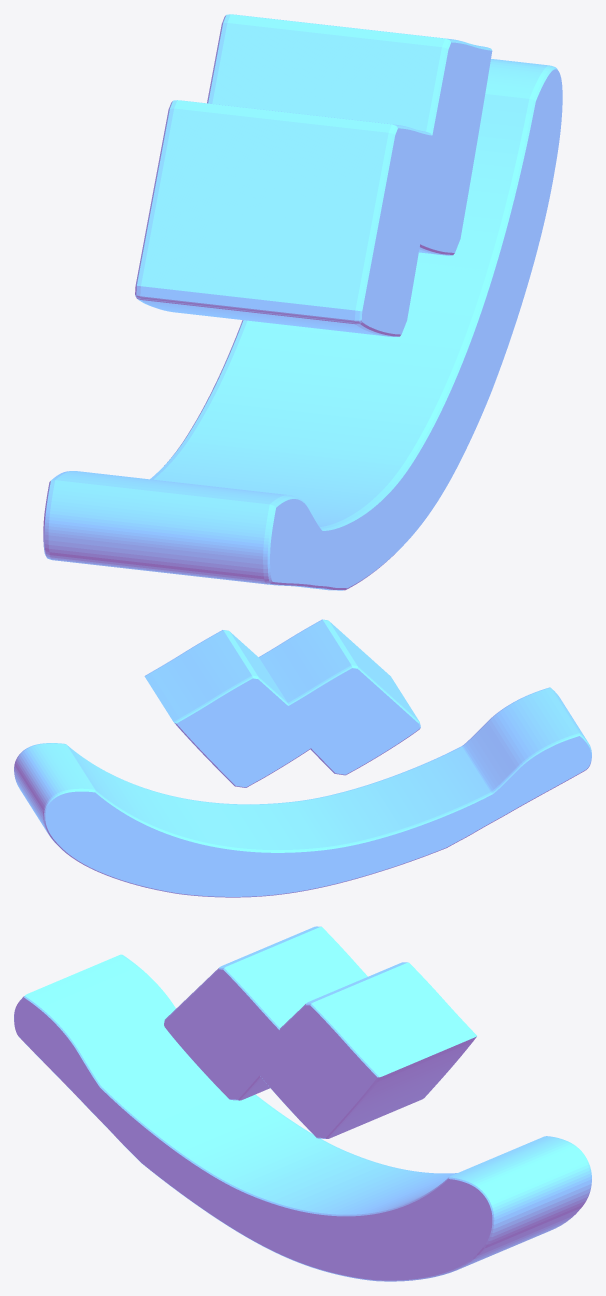
File: 3d-smile.gltf
3 renders of one model, top to bottom at view 1: azimuth 30°, elevation 25°; view 2: azimuth 150°, elevation 25°; view 3: azimuth 270°, elevation 25°, orthographic. The views are drawn at different scales.
Parts seen in each view (by area): view 1: 4547f2d0-ed35-4519-a8f9-ce7de525a196; view 2: 4547f2d0-ed35-4519-a8f9-ce7de525a196; view 3: 4547f2d0-ed35-4519-a8f9-ce7de525a196.
Part boxes in pixels (box(x1,y1,x2,y2)): 4547f2d0-ed35-4519-a8f9-ce7de525a196: box(43, 14, 562, 590); 4547f2d0-ed35-4519-a8f9-ce7de525a196: box(14, 619, 591, 897); 4547f2d0-ed35-4519-a8f9-ce7de525a196: box(14, 926, 591, 1281).
Size of the model in its own units: 24.36 by 12.35 by 24.36.
